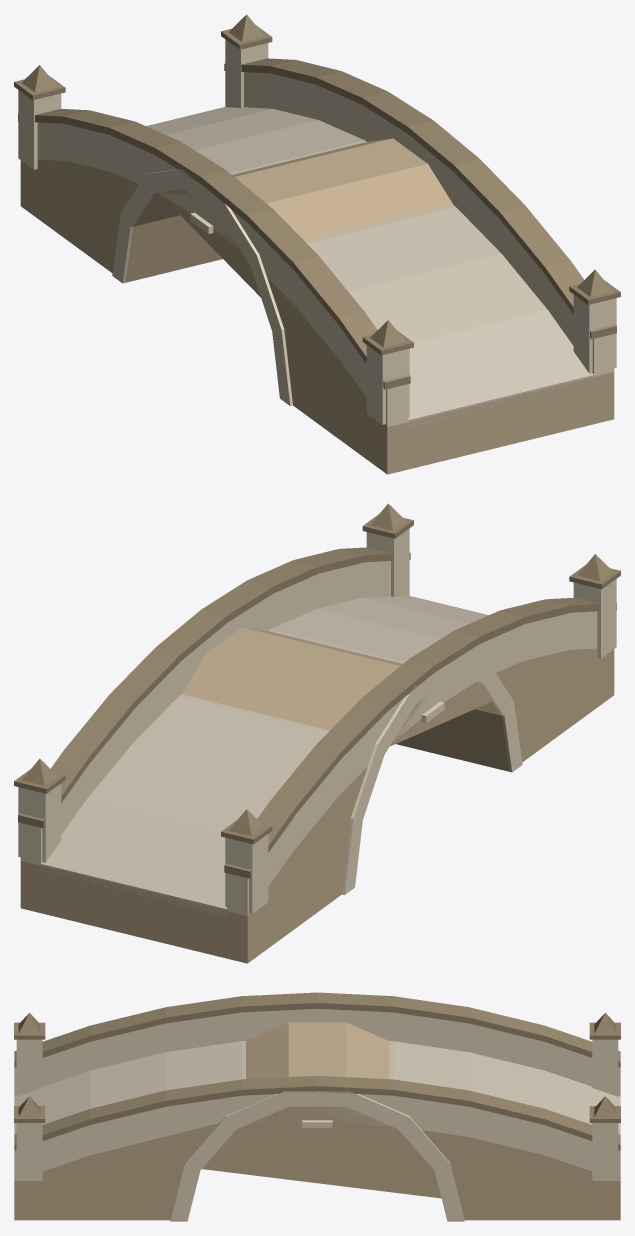
Rendered from Bridge_Stone.fbx.
3 renders of one model, top to bottom at view 1: azimuth 30°, elevation 25°; view 2: azimuth 150°, elevation 25°; view 3: azimuth 270°, elevation 25°, orthographic. The views are drawn at different scales.
Visible parts, largest first — view 1: Bridge_Stone; view 2: Bridge_Stone; view 3: Bridge_Stone.
Part boxes in pixels (<box>): Bridge_Stone: <box>14,14,620,474</box>; Bridge_Stone: <box>14,503,620,963</box>; Bridge_Stone: <box>14,992,620,1221</box>.
Size of the model in its own units: 5.28 by 3.45 by 14.02.
